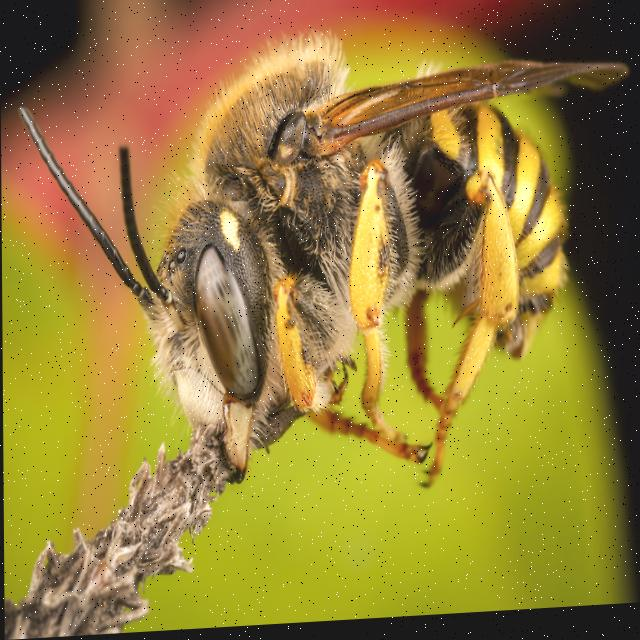Apis-mellifera-scutellata: (20, 15, 635, 535)
